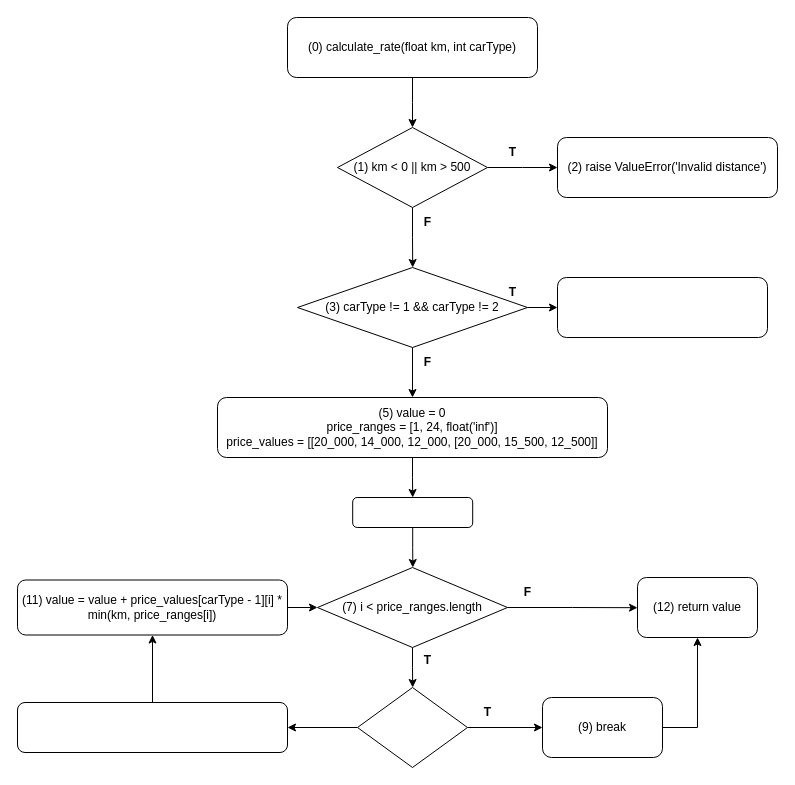
Some shapes in this 795 by 785 pixel diagram are drawn without their labels. Here are the shapes that lost their labels. From the top down, the centre of each, then its label:
At (x=662, y=307): "(4) raise ValueError('Invalid car type')".
At (x=412, y=512): "(6) i = 0".
At (x=152, y=727): "(10) value = value + price_values[carType - 1][i] * min(km, price_ranges[i])".
At (x=412, y=727): "(8) km <= 0".
